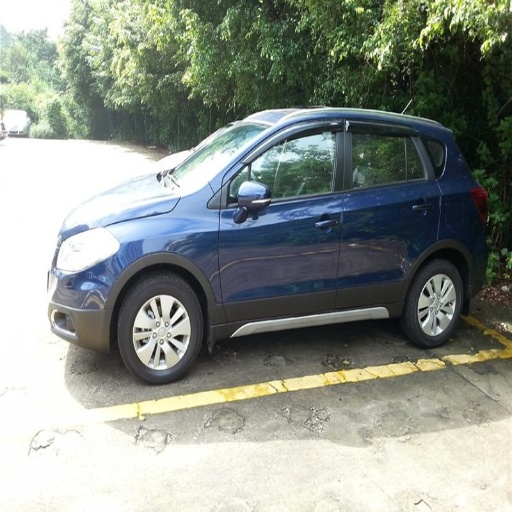back_left_door: (338, 117, 436, 310)
front_bumper: (48, 268, 118, 347)
front_glass: (179, 128, 252, 170)
front_left_door: (219, 117, 344, 323)
